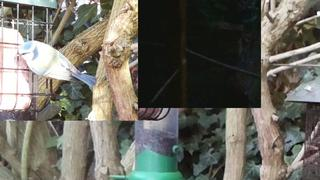blue tit: (16, 40, 98, 88)
